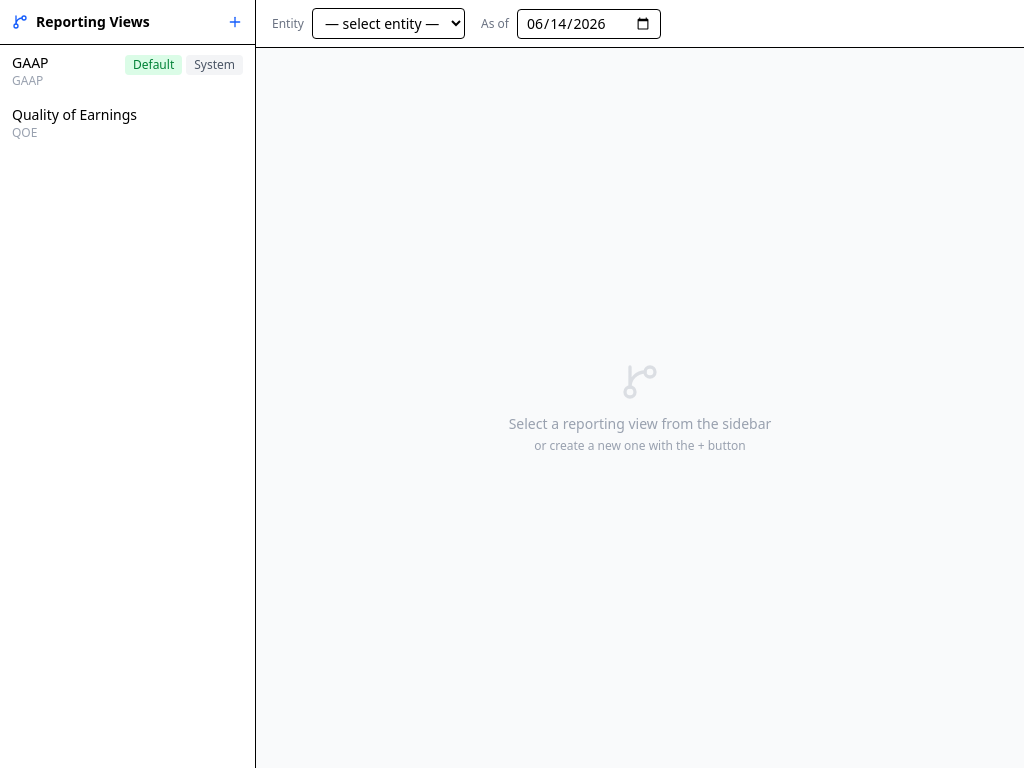
ReportingViewWorkspacePage › selects a view and shows header
This screenshot has width=1024, height=768.
Click the element with test id "view-item-2" at {"x": 75, "y": 123}, box [12, 105, 137, 141]
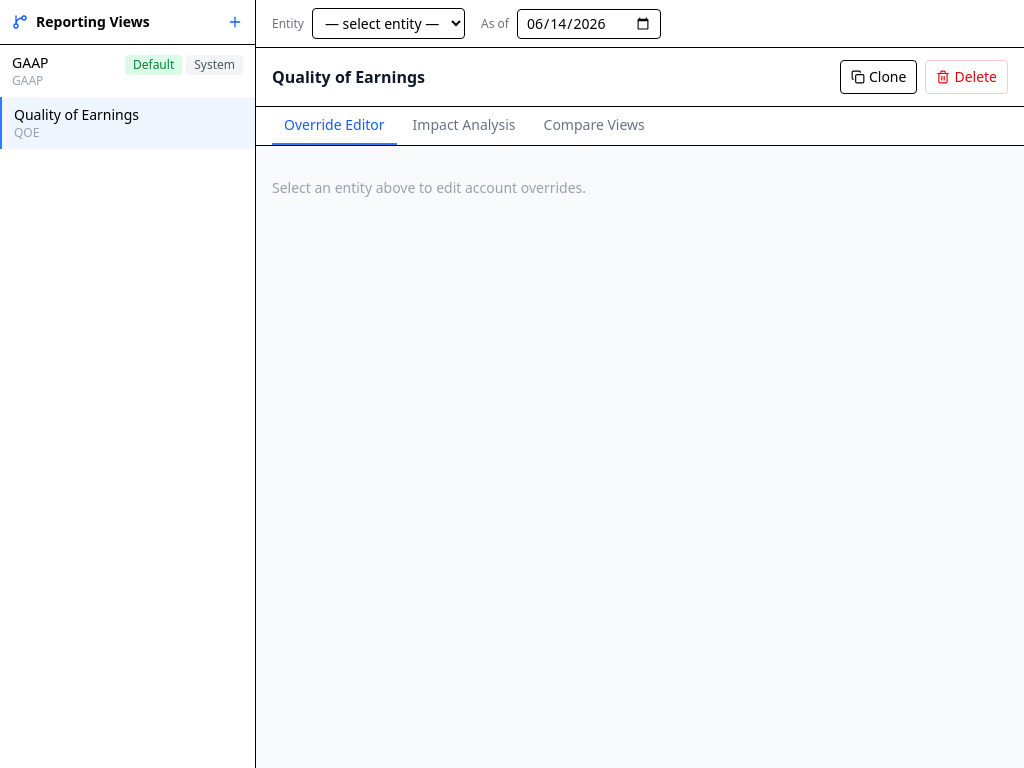
Expected: the text "Quality of Earnings" is shown, [14, 105, 139, 124]
Now the element with test id "view-header" is shown, box [256, 48, 1023, 107]
